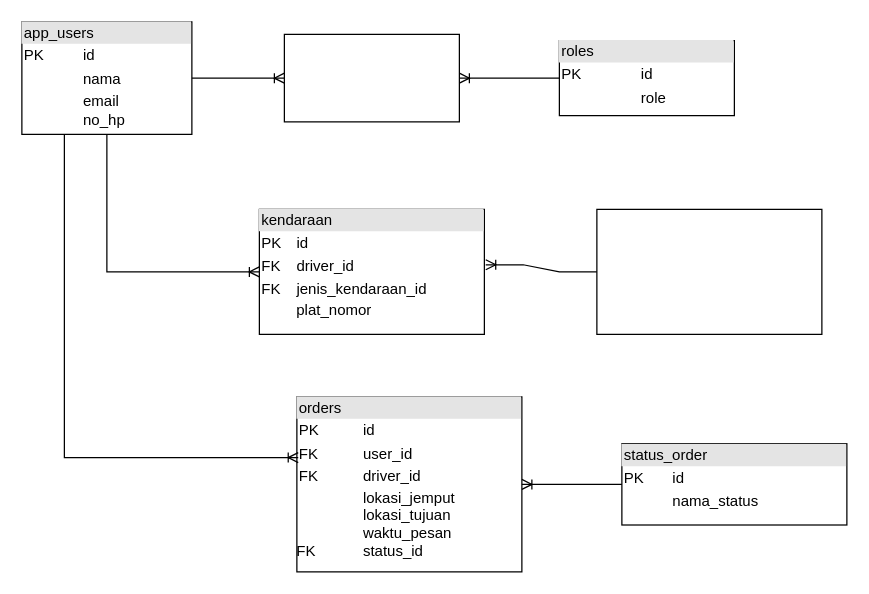
Image size: 869x594. Some labels were removed from this diagram. The shapes that lost their labels are listed below. From the top down, each one's box as (x1, y1, x2, y2) in pixels, then its label:
(283, 33, 459, 122): user_roles PK, FK user_id PK, FK role_id
(596, 208, 822, 334): jenis_kendaraan PK id nama_jenis kapasitas tarif/km deskripsi
